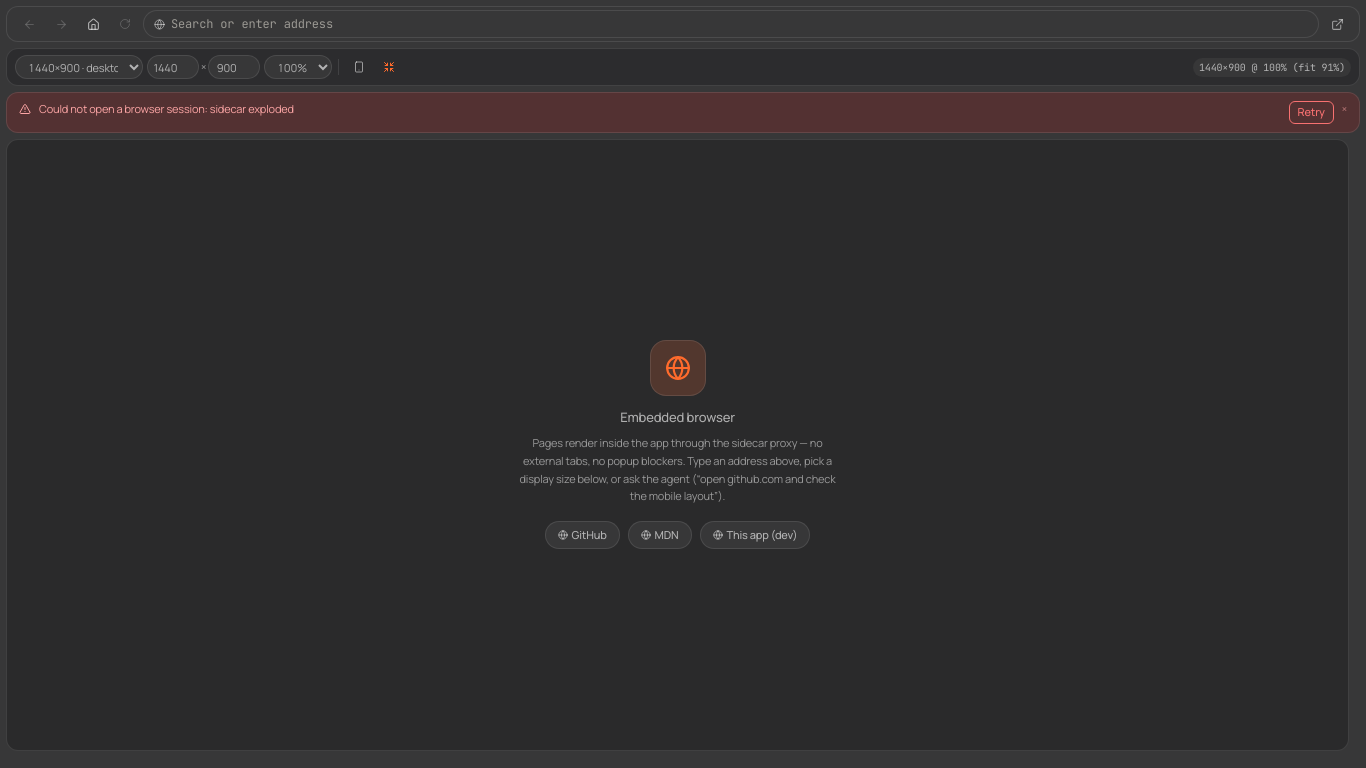
Test: BrowserPanel (R43-10 embedded browser) › session-mint failure shows the retry card; Retry re-mints
Expected: the message with test id "browser-error-card" shows "sidecar exploded", [39,101,294,116]
Click the button with test id "browser-retry" at (1311, 112), box [1289,101,1334,124]
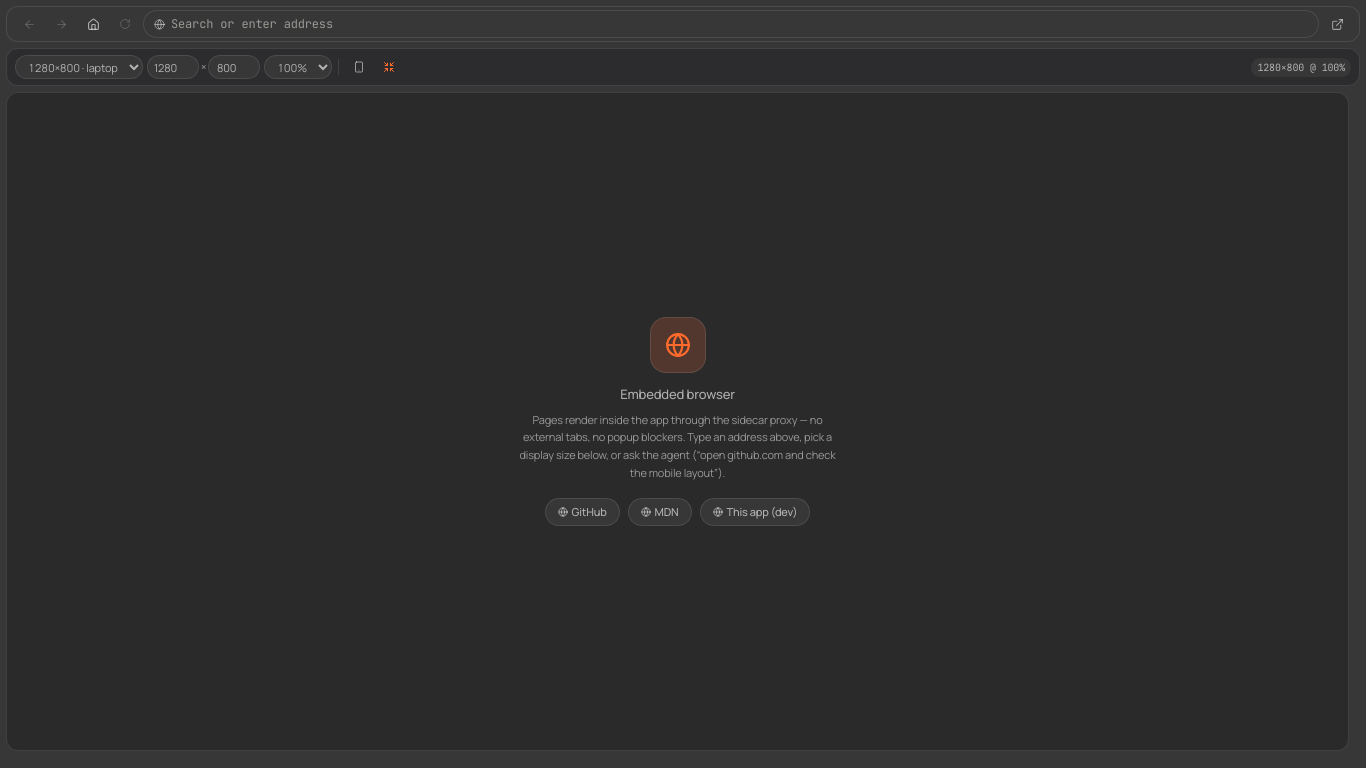
Expected: the message with test id "browser-error-card" is gone
